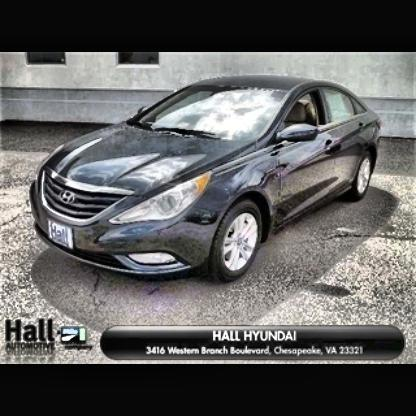Hyundai Sonata Sedan 2012: (32, 80, 386, 284)
